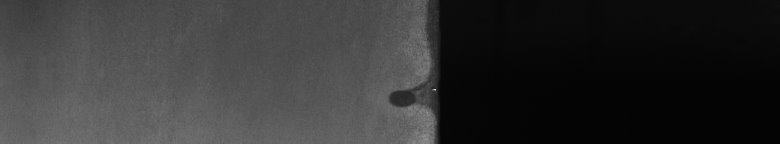hb: (380, 4, 428, 116)
